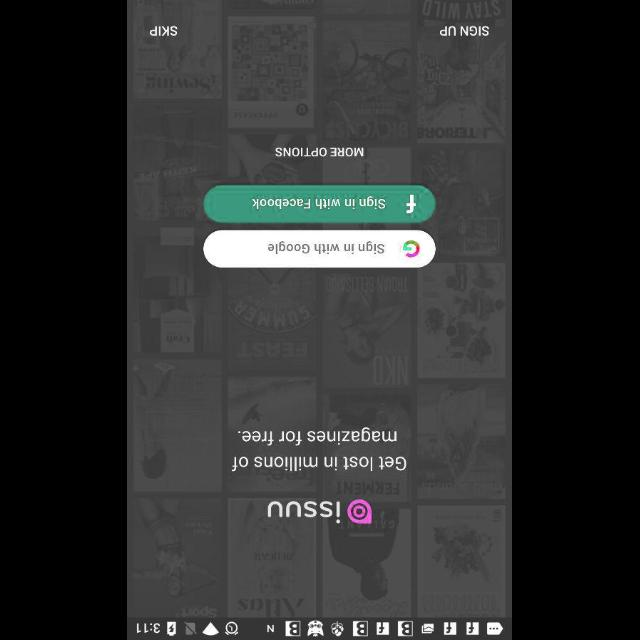backgroundimage: (128, 0, 512, 616)
image: (268, 498, 372, 524)
text: (232, 426, 408, 472), (276, 147, 364, 157), (440, 26, 490, 36), (150, 26, 178, 36)
textbutton: (204, 229, 436, 267), (204, 184, 436, 222)
uppertaskbar: (128, 617, 512, 639)
